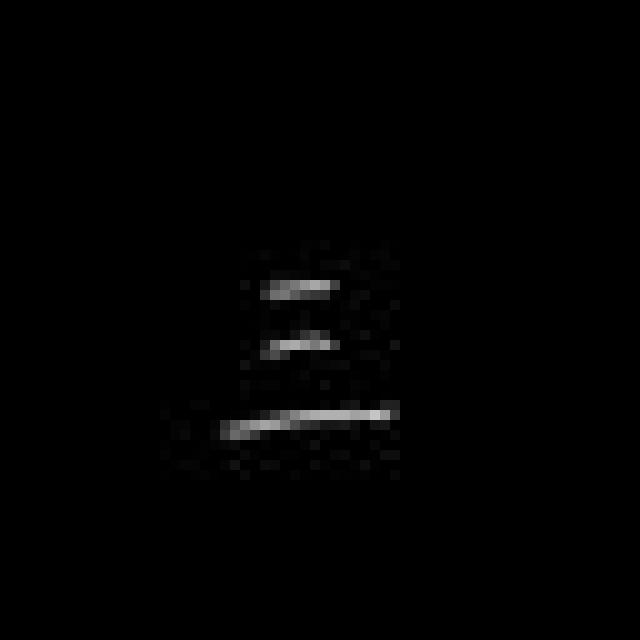3 -three-: (200, 259, 421, 458)
